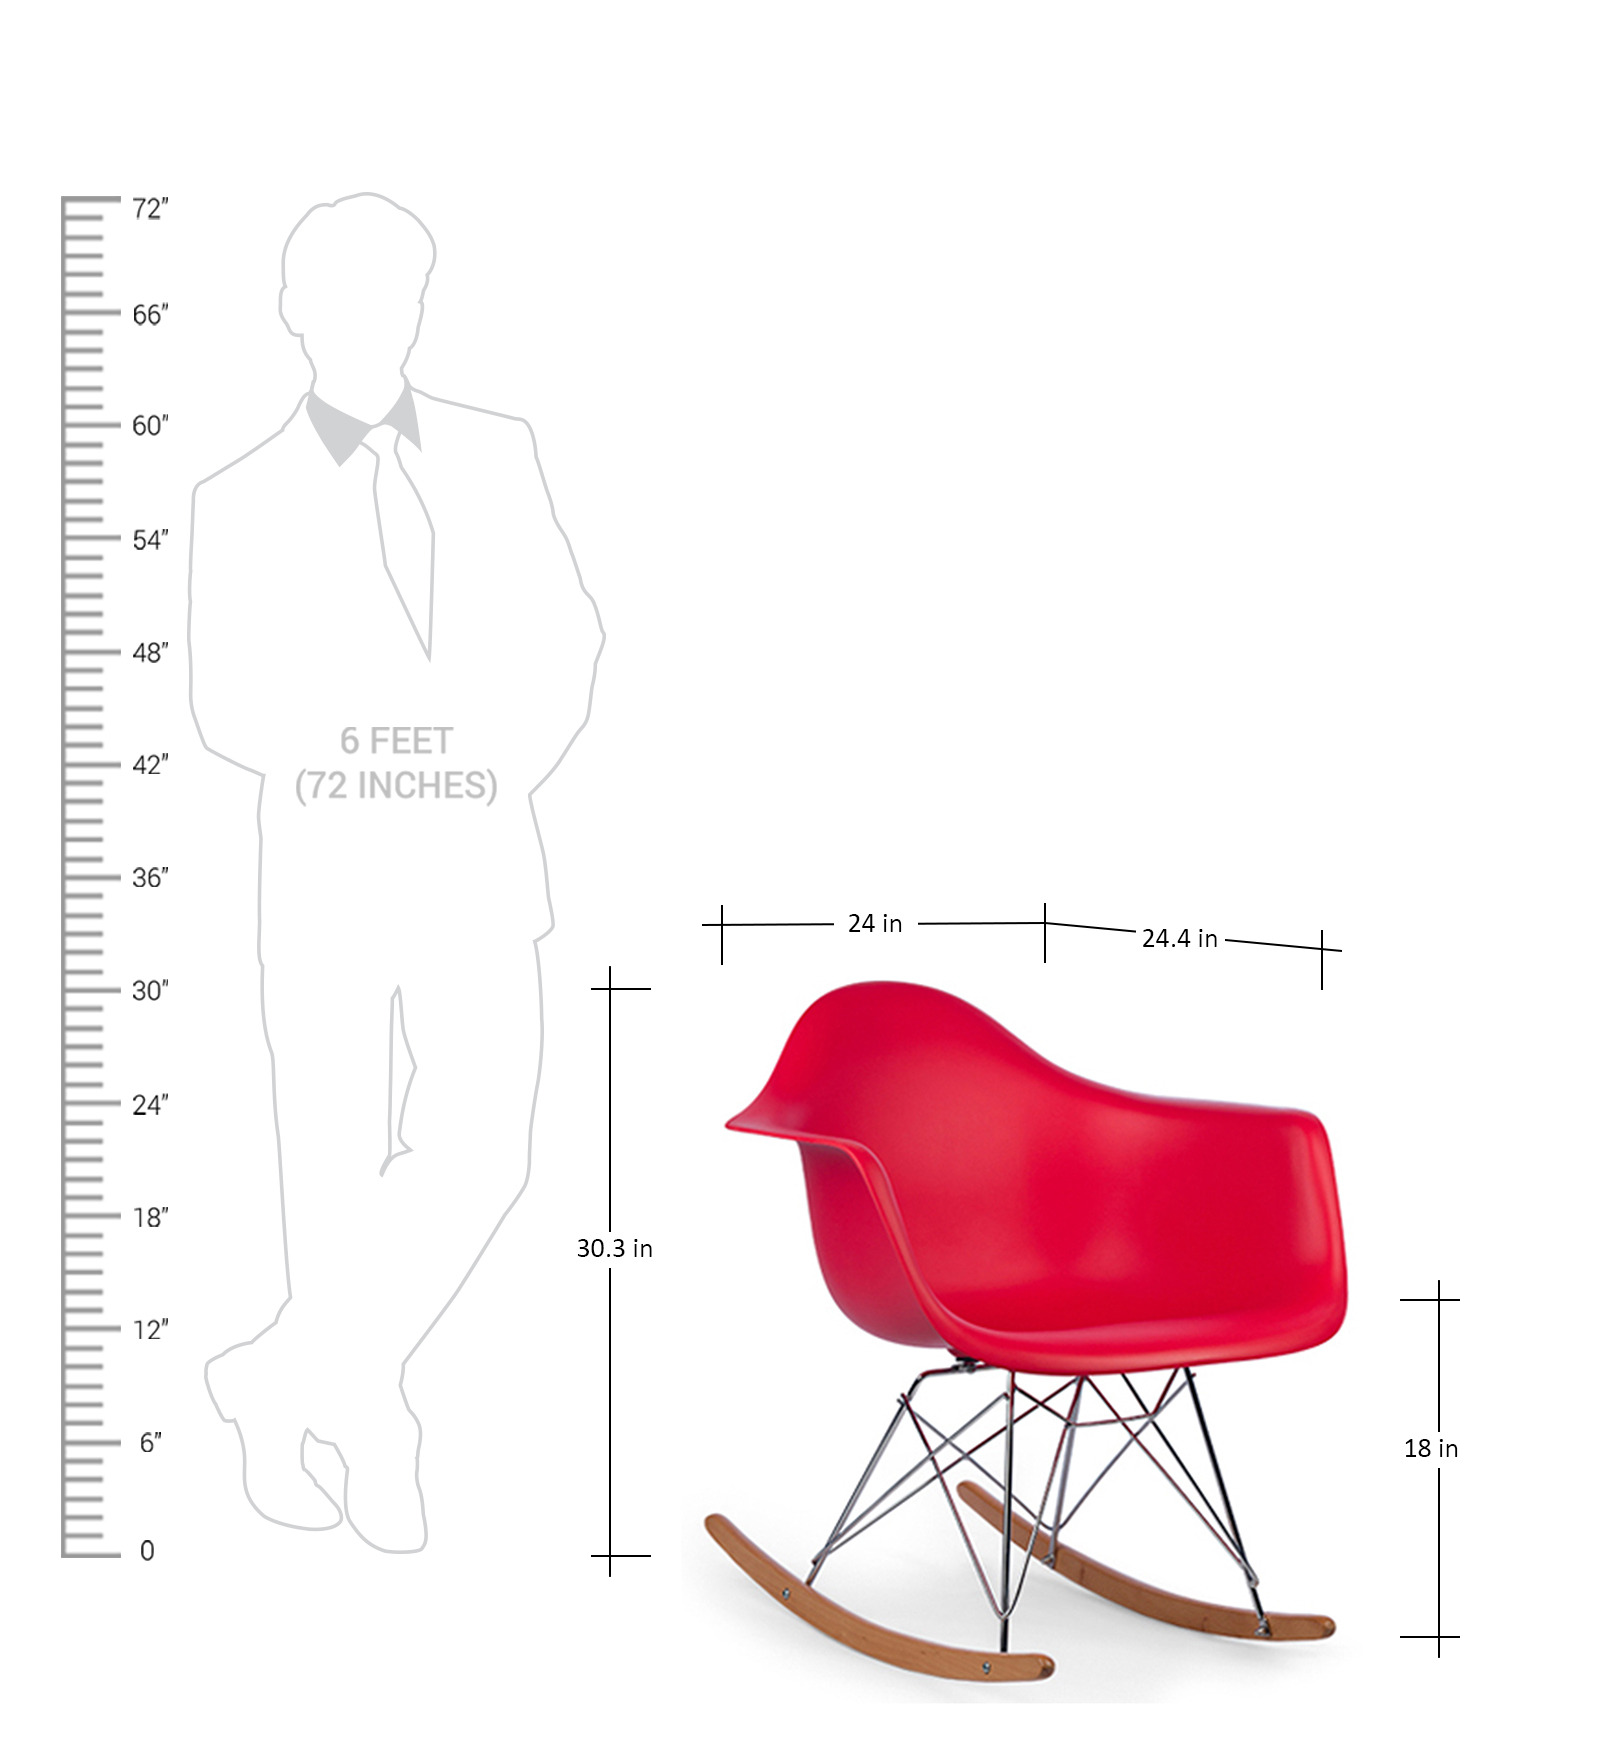Daytona Beach Club Rocking Chair in Rocking Red Colour by HomeHQ: (654, 955, 1359, 1706)
